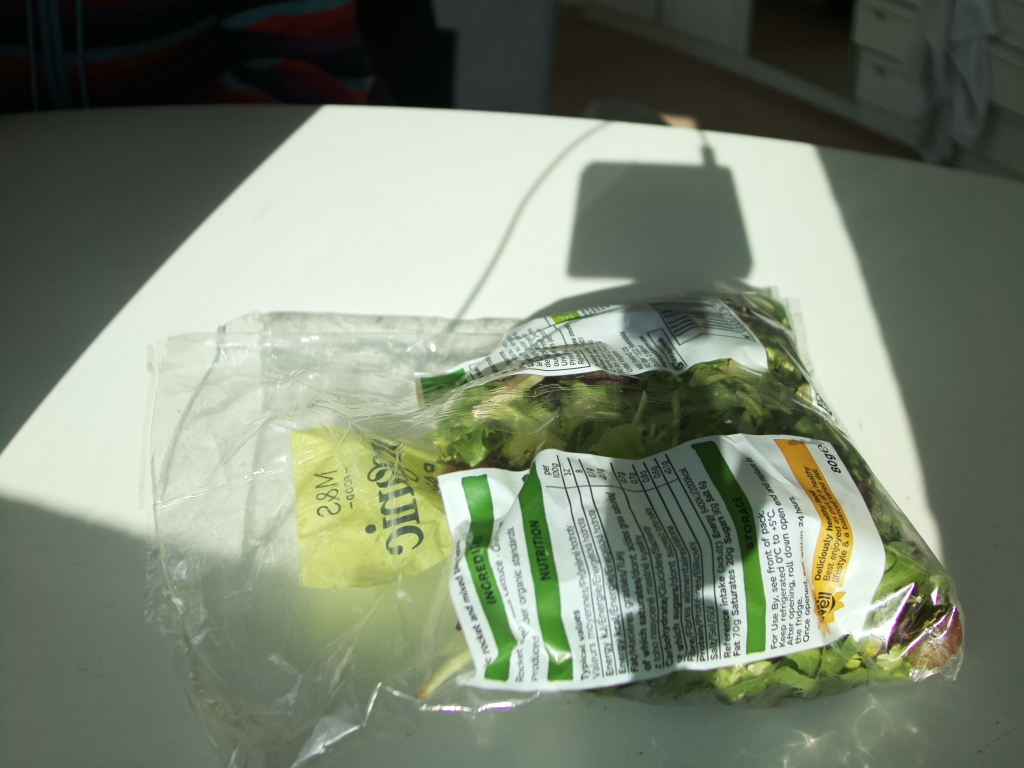salad: (436, 277, 963, 701)
